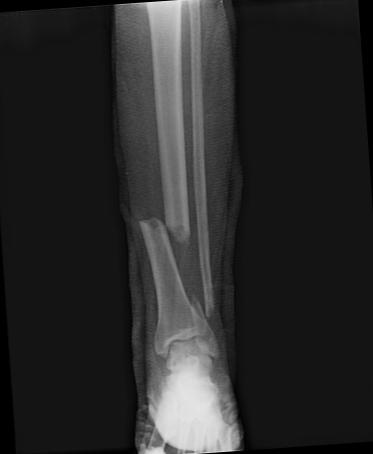fractured: (133, 211, 192, 253), (185, 291, 216, 324)
